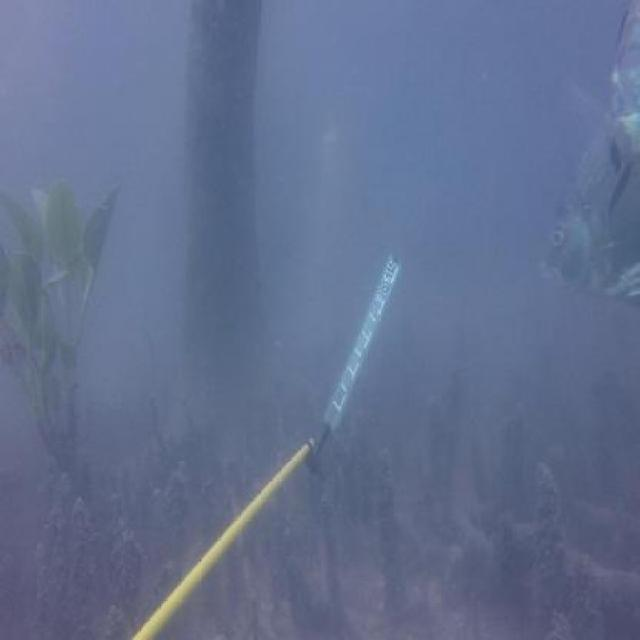acanthopagrus_palmaris: (535, 131, 640, 306), (598, 1, 640, 212)
